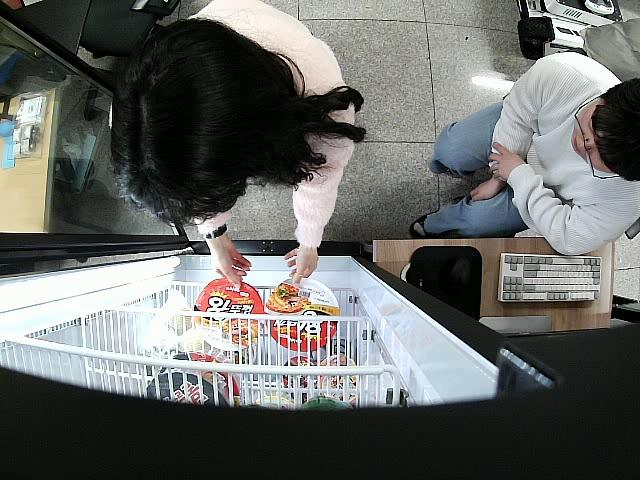00_hand: (213, 240, 251, 293), (487, 139, 516, 181), (285, 247, 318, 283)
10_wangTtukkeong: (266, 280, 340, 351), (192, 278, 260, 351)
